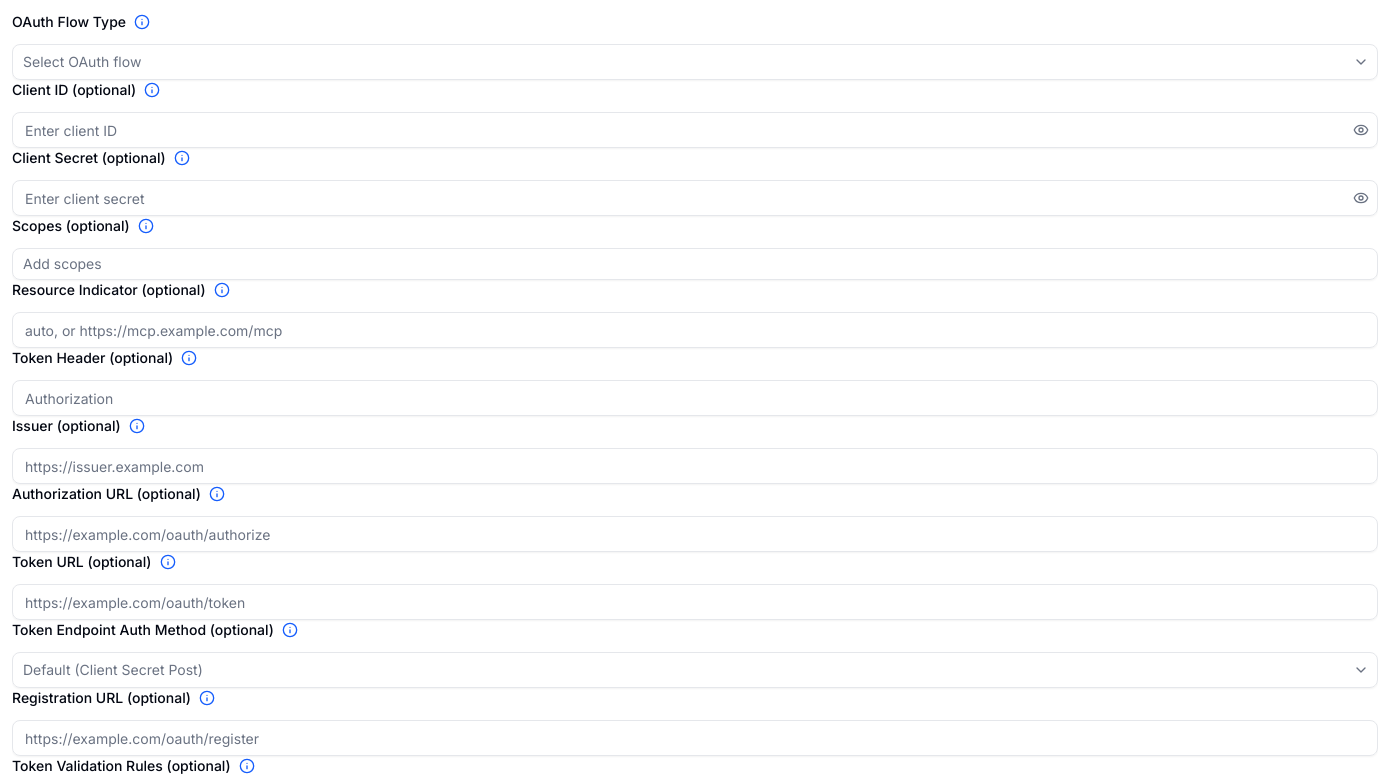
Test: OAuthFormFields › token endpoint auth method selector › offers client_secret_basic and client_secret_post options
Press the mouse on the dropdown named "Token Endpoint Auth Method (optional)" at (113, 670), box [12,652,1378,688]
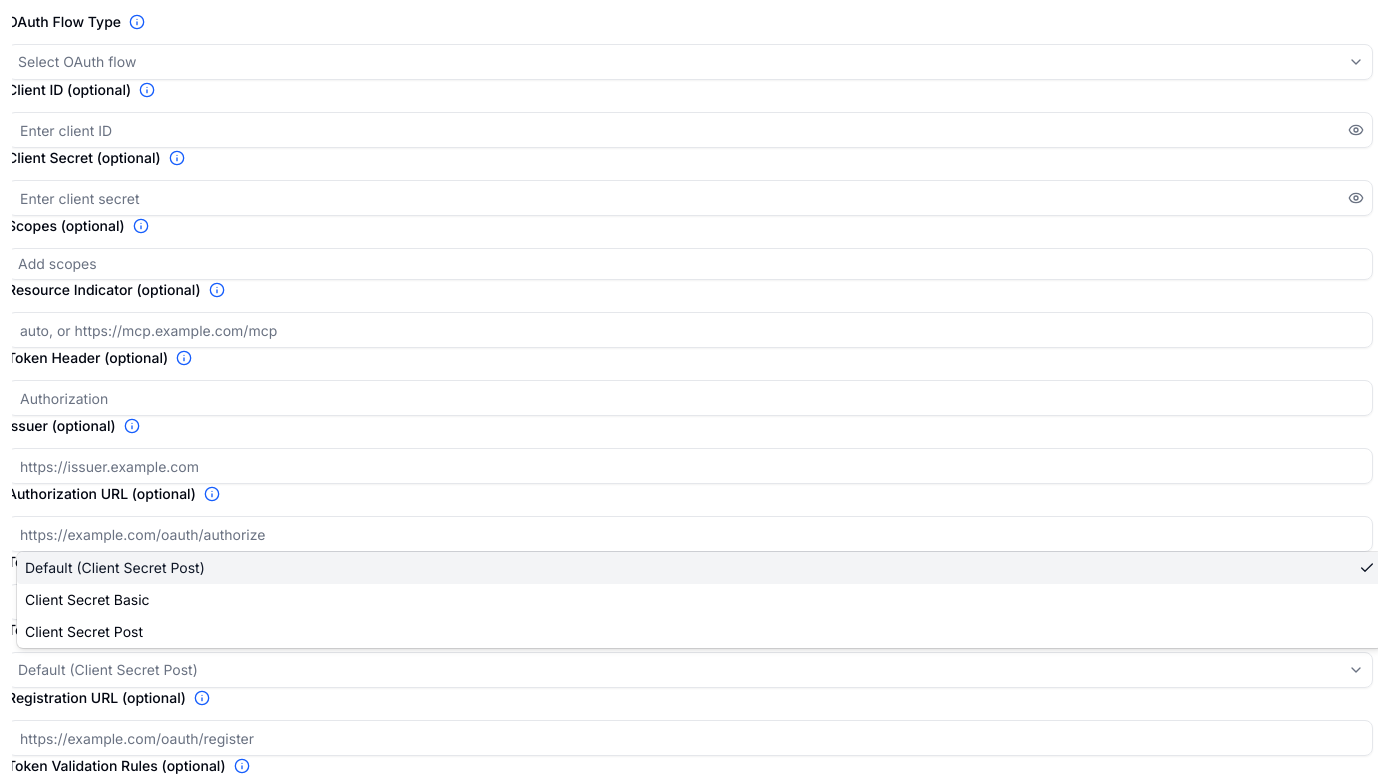
Result: the text "Client Secret Basic" is shown at [25,591,150,608]
Result: the text "Client Secret Post" is shown at [25,623,143,640]
